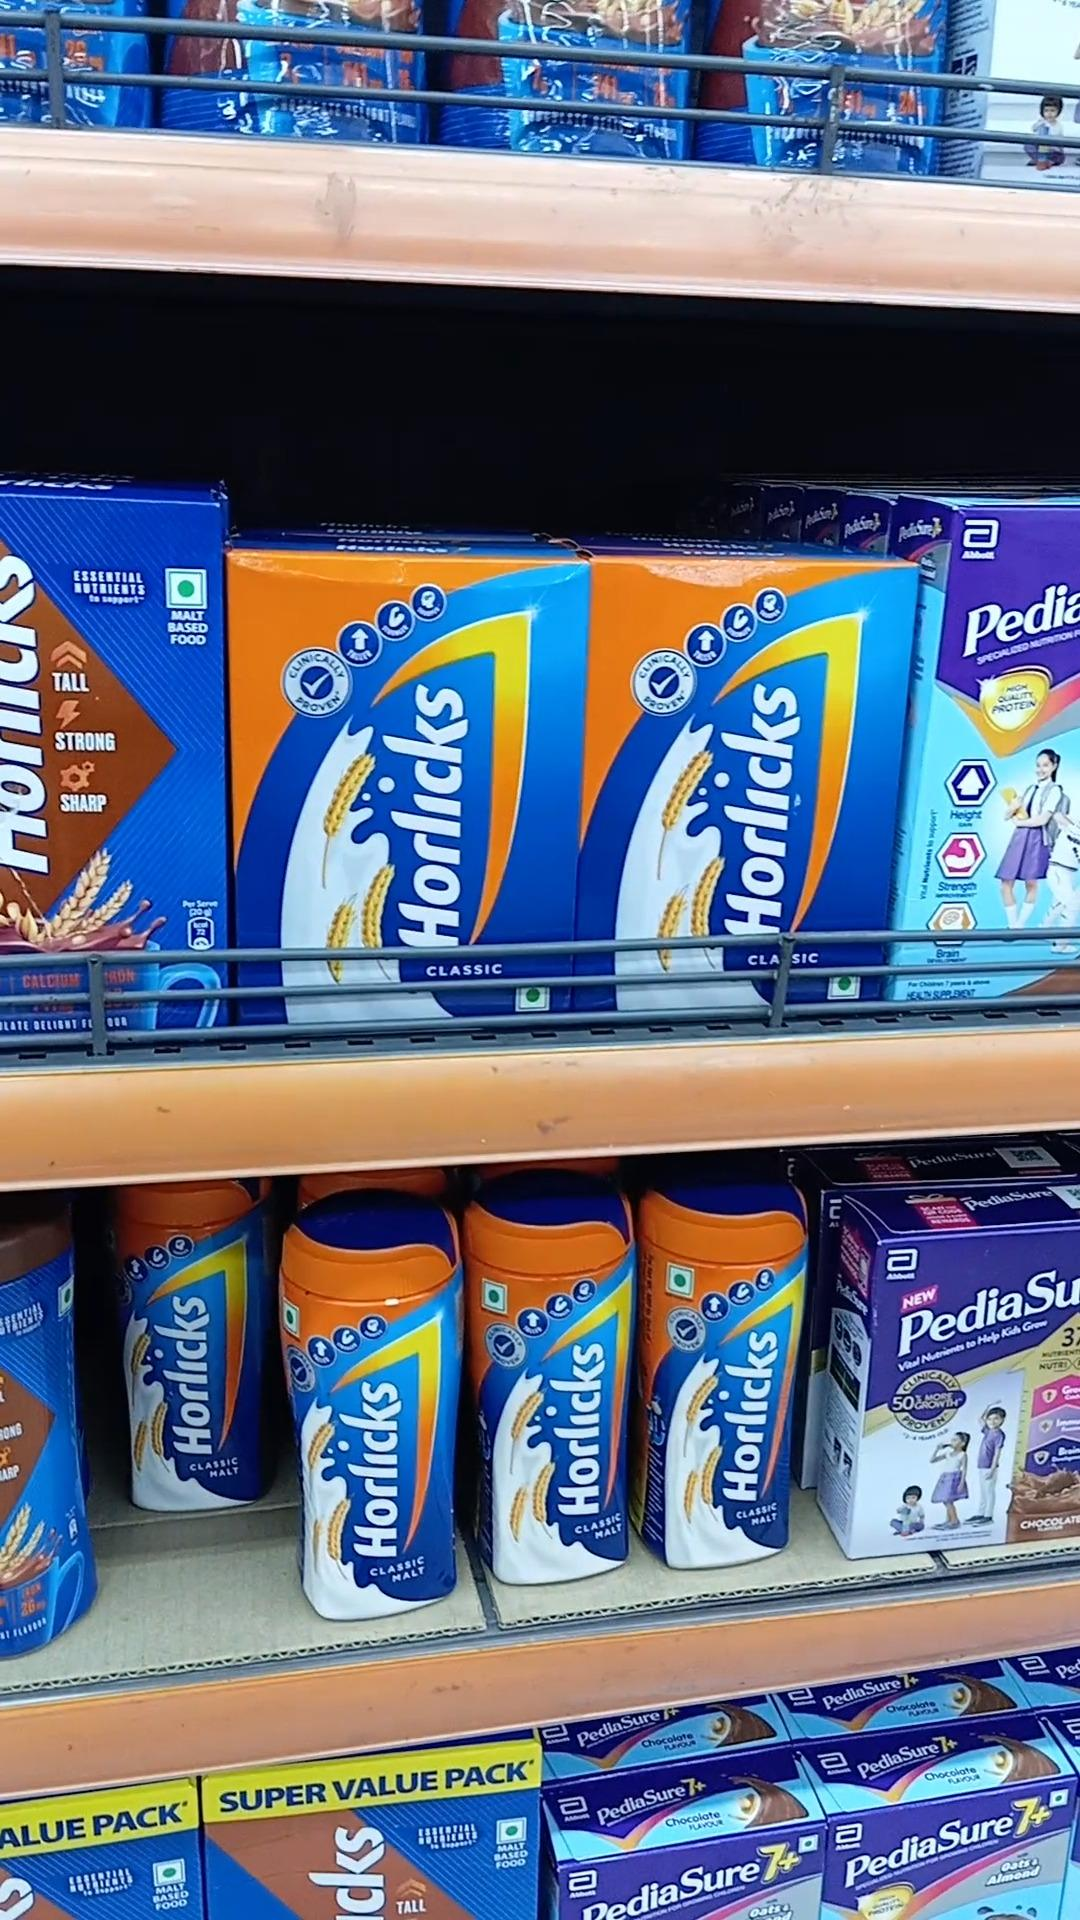HORLICK_CLASSIC_MALT_500_G_JAR: (287, 1205, 459, 1610), (650, 1183, 808, 1571), (476, 1192, 629, 1580), (117, 1183, 256, 1511)
HORLICK_CLASSIC_MALT_500_G_PACK: (233, 546, 571, 1027), (585, 563, 884, 1013)
PEDIASURE_CHOCOLATE_500_G_PACK: (852, 1225, 1080, 1551)
